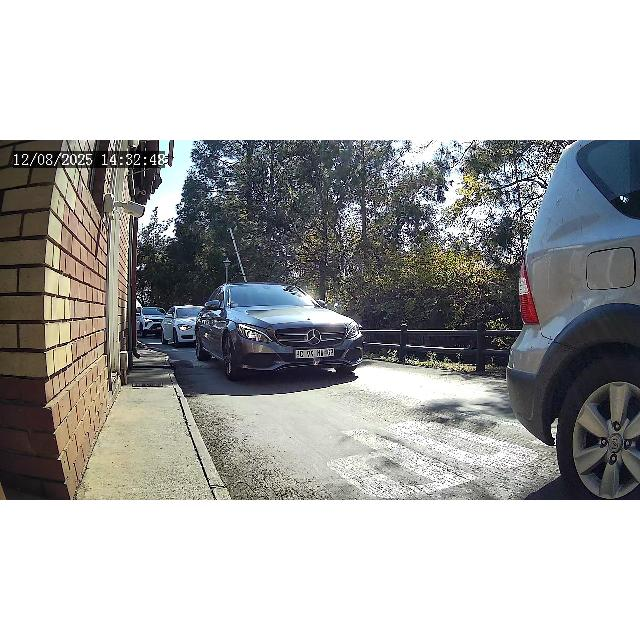car: (193, 281, 365, 381), (160, 304, 206, 350), (136, 305, 168, 339)
plate: (292, 348, 336, 358)
